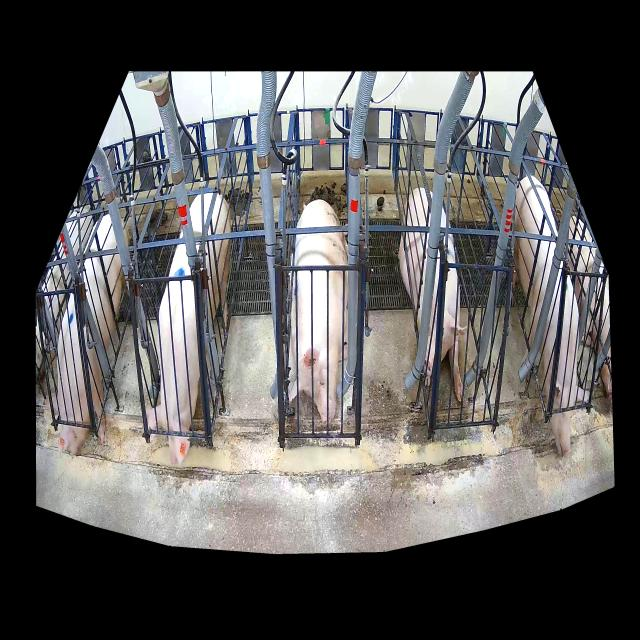pig: (145, 193, 232, 466), (511, 177, 590, 458), (45, 214, 123, 455), (398, 188, 467, 401), (289, 199, 348, 426)
